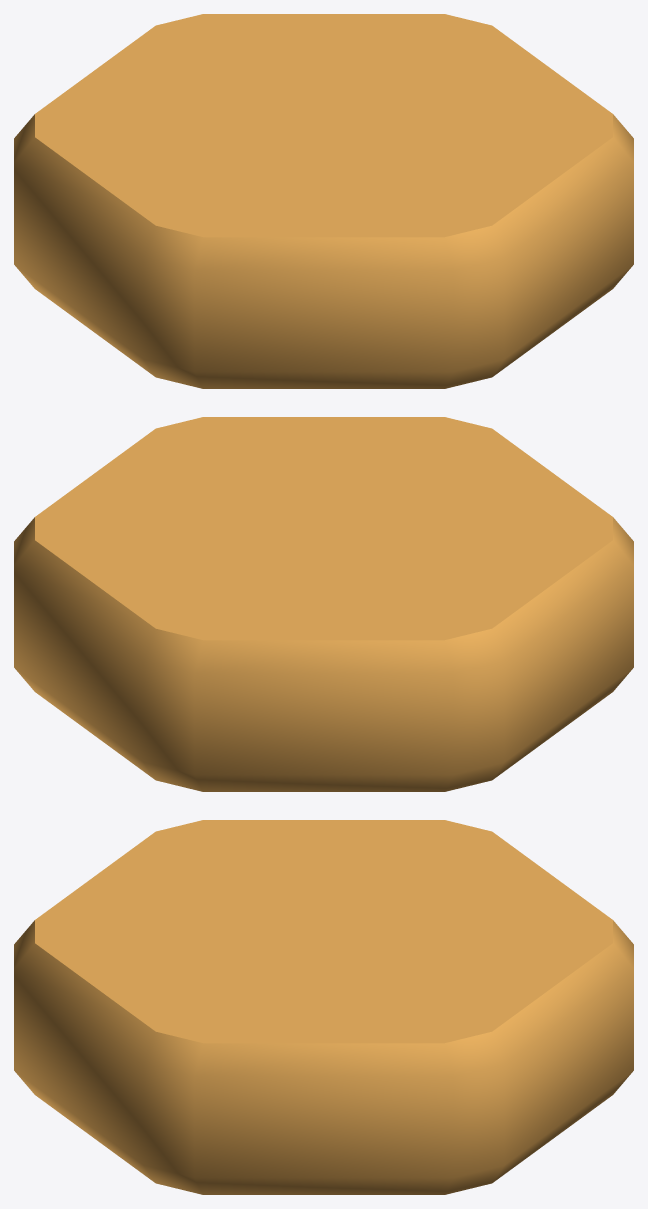
File: Hexagon_01.fbx
3 views of the same model, one above another, from view 1: azimuth 30°, elevation 25°; view 2: azimuth 150°, elevation 25°; view 3: azimuth 270°, elevation 25° (orthographic).
Visible parts, largest first — view 1: Hexagon_01; view 2: Hexagon_01; view 3: Hexagon_01.
Part boxes in pixels (x1=…): Hexagon_01: x1=14, y1=14, x2=633, y2=388; Hexagon_01: x1=14, y1=417, x2=633, y2=791; Hexagon_01: x1=14, y1=820, x2=633, y2=1194.
Bounding box in the file's own units: 338 × 100 × 370.
